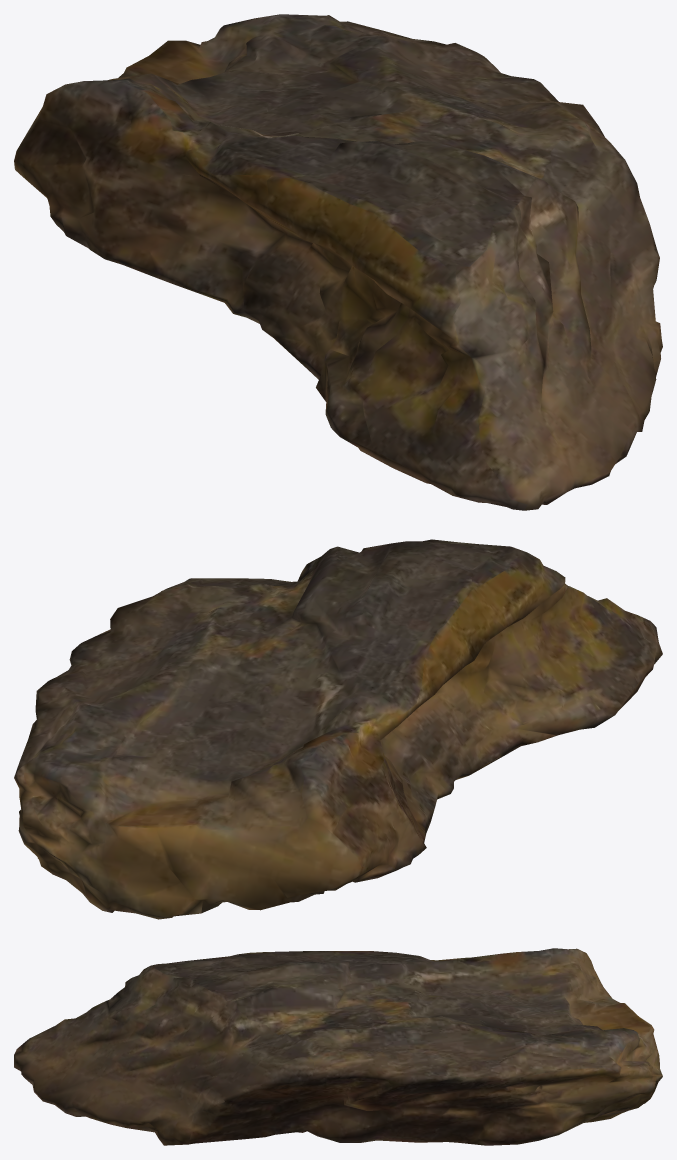
File: rock_09.glb
3 renders of one model, top to bottom at view 1: azimuth 30°, elevation 25°; view 2: azimuth 150°, elevation 25°; view 3: azimuth 270°, elevation 25°, orthographic. The views are drawn at different scales.
Parts seen in each view (by area): view 1: rock_09_LOD0; view 2: rock_09_LOD0; view 3: rock_09_LOD0.
Part boxes in pixels (x1,y1,x2,y2): rock_09_LOD0: [14, 14, 662, 510]; rock_09_LOD0: [14, 539, 662, 919]; rock_09_LOD0: [14, 948, 662, 1145].
Size of the model in its own units: 0.0739 by 0.0328 by 0.1446.
1 material, 1 textured.
